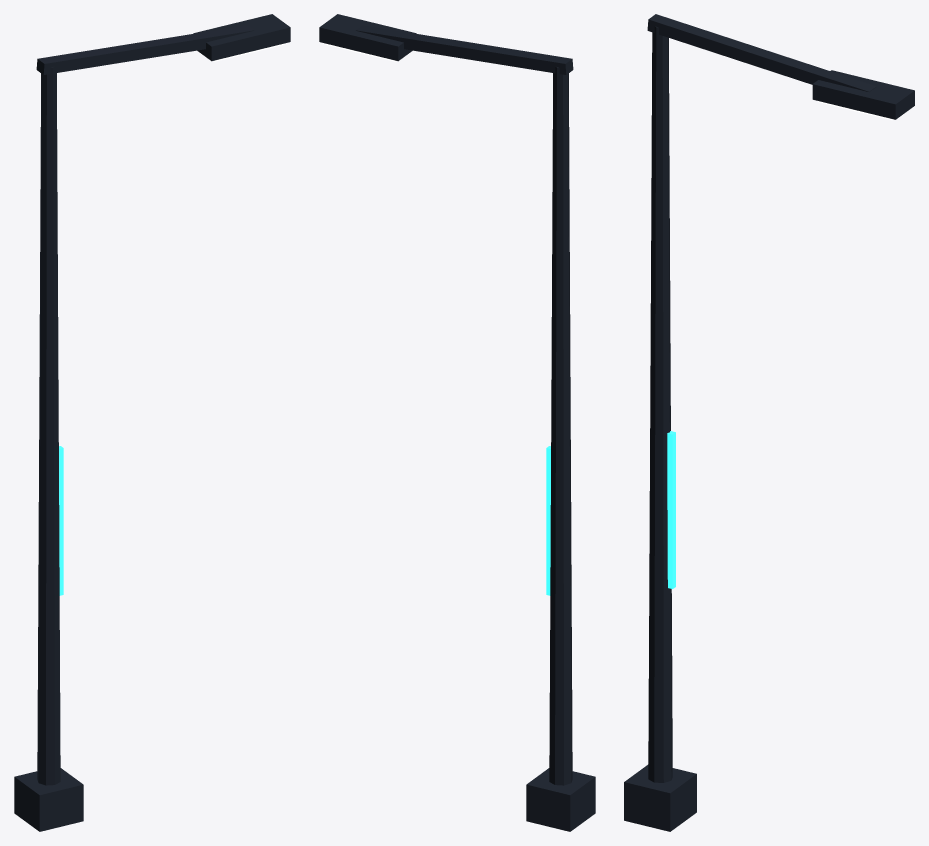
File: streetlight.glb
The picture shows the model from 3 angles, left to right: view 1: azimuth 30°, elevation 25°; view 2: azimuth 150°, elevation 25°; view 3: azimuth 330°, elevation 25°; orthographic projection. The views are drawn at different scales.
Parts seen in each view (by area): view 1: streetlight; view 2: streetlight; view 3: streetlight.
Part boxes in pixels (left/top/right/bottom): streetlight: left=14, top=14, right=290, bottom=831; streetlight: left=319, top=14, right=595, bottom=831; streetlight: left=624, top=14, right=914, bottom=831.
Size of the model in its own units: 2.9 by 8.26 by 0.5.
